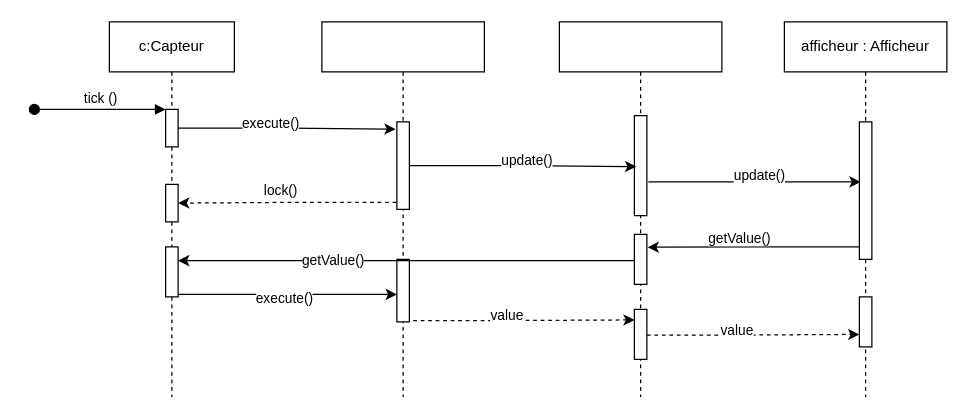
The diagram is 969 pixels wide and 419 high, and some of its shapes have lost their labels. The shapes that lost their labels are listed below. From the top down, each one's centre as x and y in pixels, then its label:
[402,209]: :AlgoDiffusion
[640,209]: canal : Canal
